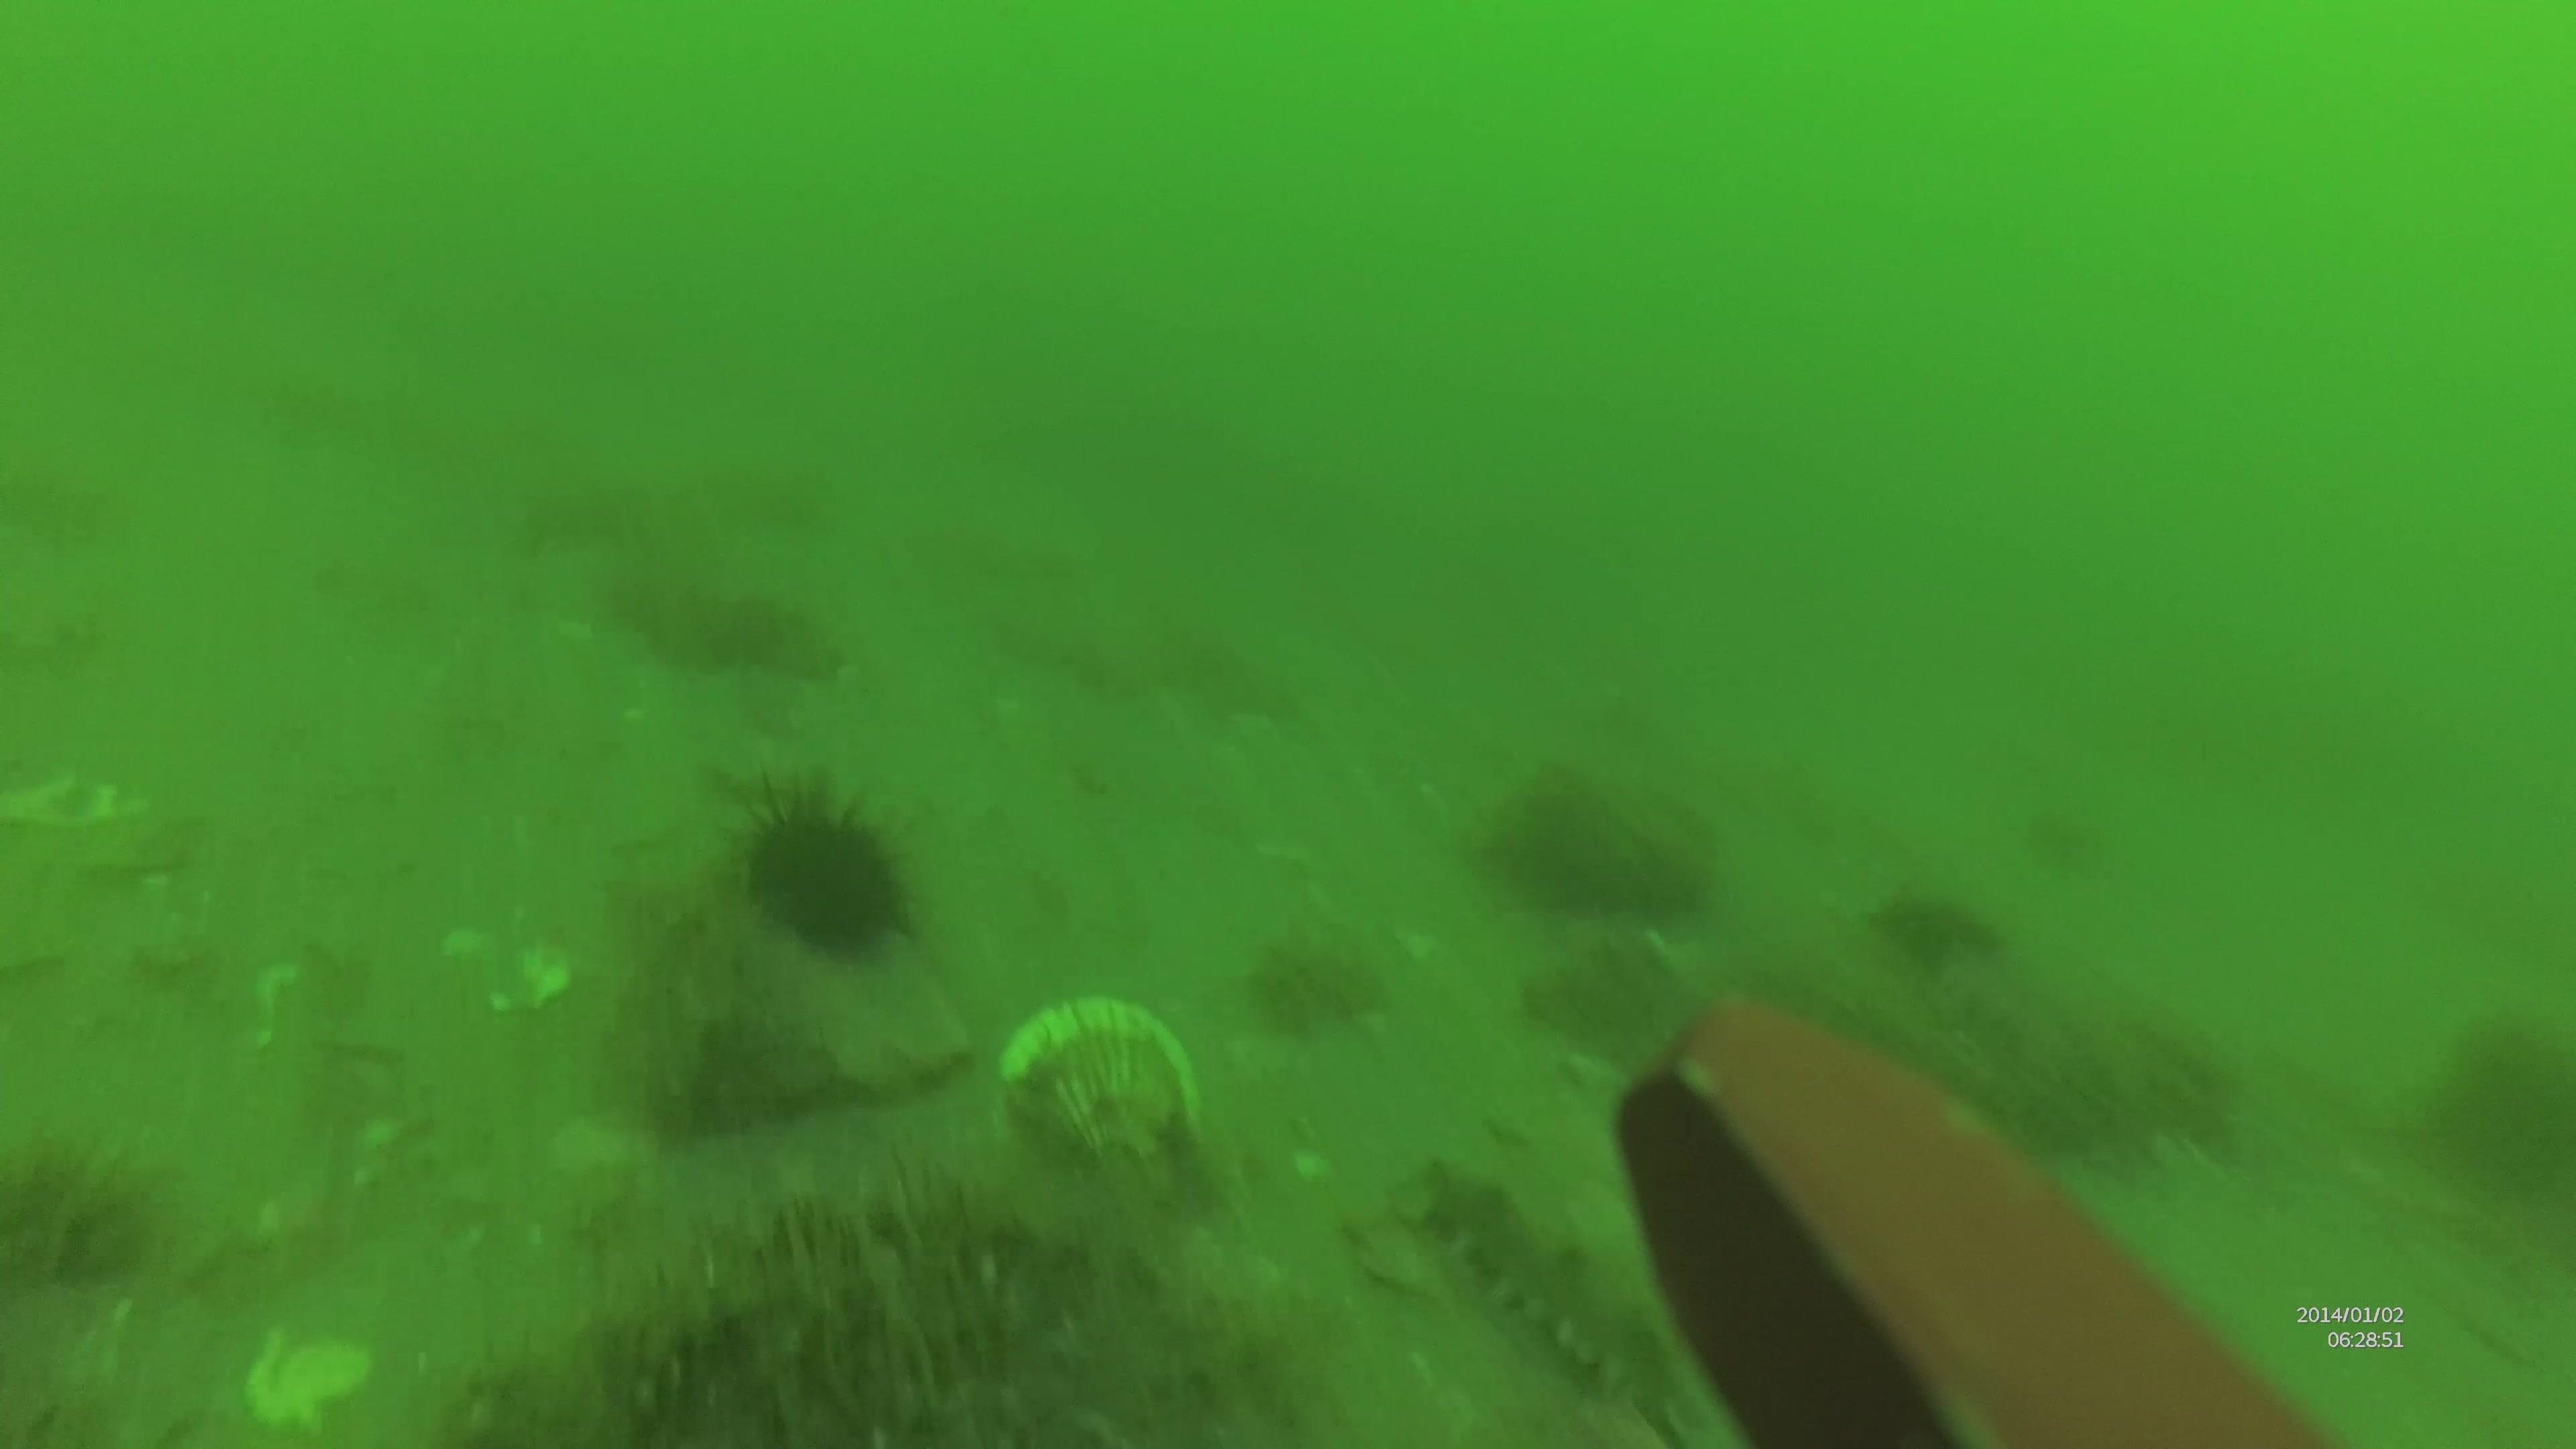echinus: (720, 771, 902, 964)
holothurian: (1407, 1164, 1670, 1403)
scallop: (971, 993, 1194, 1146)
